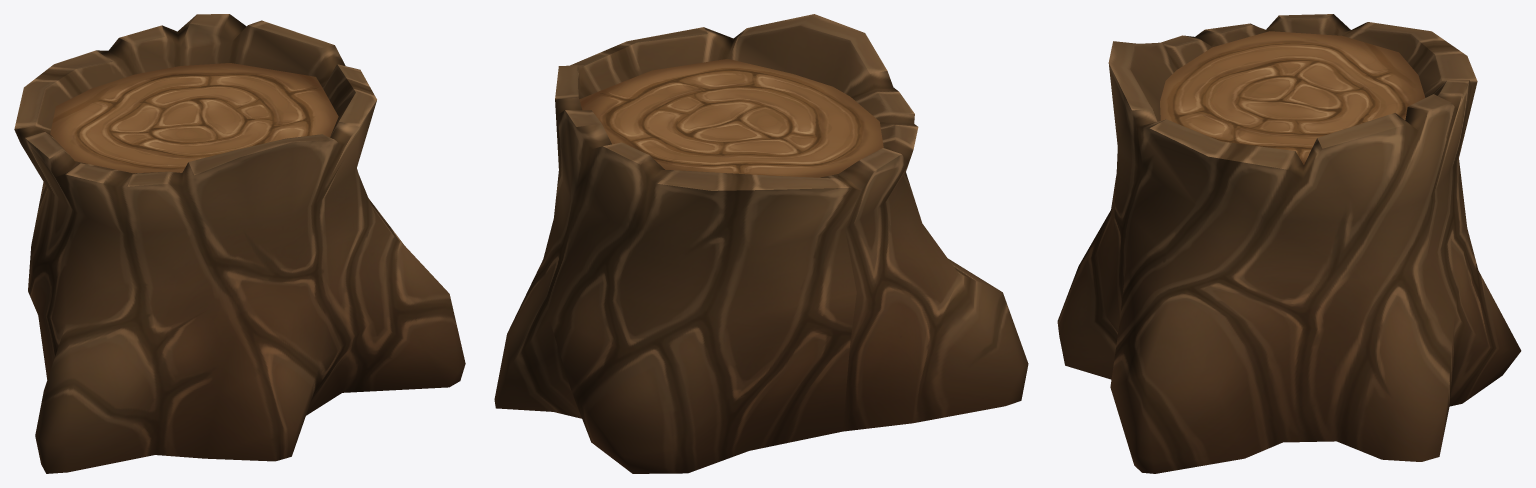
Rendered from Stump.FBX.
3 renders of one model, left to right at view 1: azimuth 30°, elevation 25°; view 2: azimuth 150°, elevation 25°; view 3: azimuth 270°, elevation 25°, orthographic. The views are drawn at different scales.
Parts seen in each view (by area): view 1: Stump; view 2: Stump; view 3: Stump.
Part boxes in pixels (x1,y1,x2,y2): Stump: (14, 14, 465, 473); Stump: (494, 14, 1028, 473); Stump: (1057, 14, 1521, 473).
Size of what is drawn, in the model's own units: 188 by 169 by 128.
